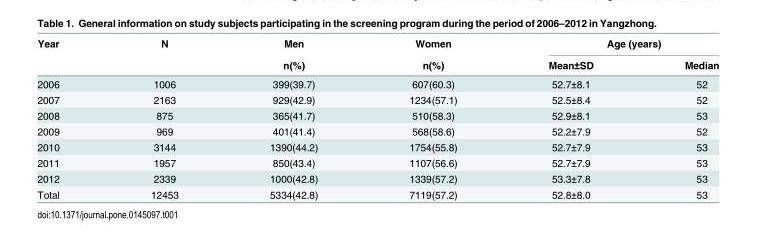table: (36, 36, 718, 199)
table column: (362, 36, 502, 199), (223, 36, 362, 199), (502, 36, 638, 199), (104, 36, 223, 199), (638, 36, 718, 199), (36, 36, 104, 199)
table column header: (36, 36, 718, 74)
table row: (36, 53, 718, 74), (36, 36, 718, 53), (36, 74, 718, 91), (36, 91, 718, 107), (36, 107, 718, 123), (36, 138, 718, 154), (36, 154, 718, 170), (36, 170, 718, 186), (36, 123, 718, 138), (36, 186, 718, 199)
table spanning cell: (362, 36, 502, 74), (223, 36, 362, 74), (104, 36, 223, 74), (502, 36, 718, 53), (36, 36, 104, 74)
